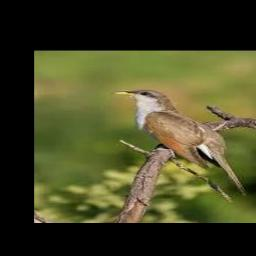Cuckoo: (112, 90, 246, 195)
